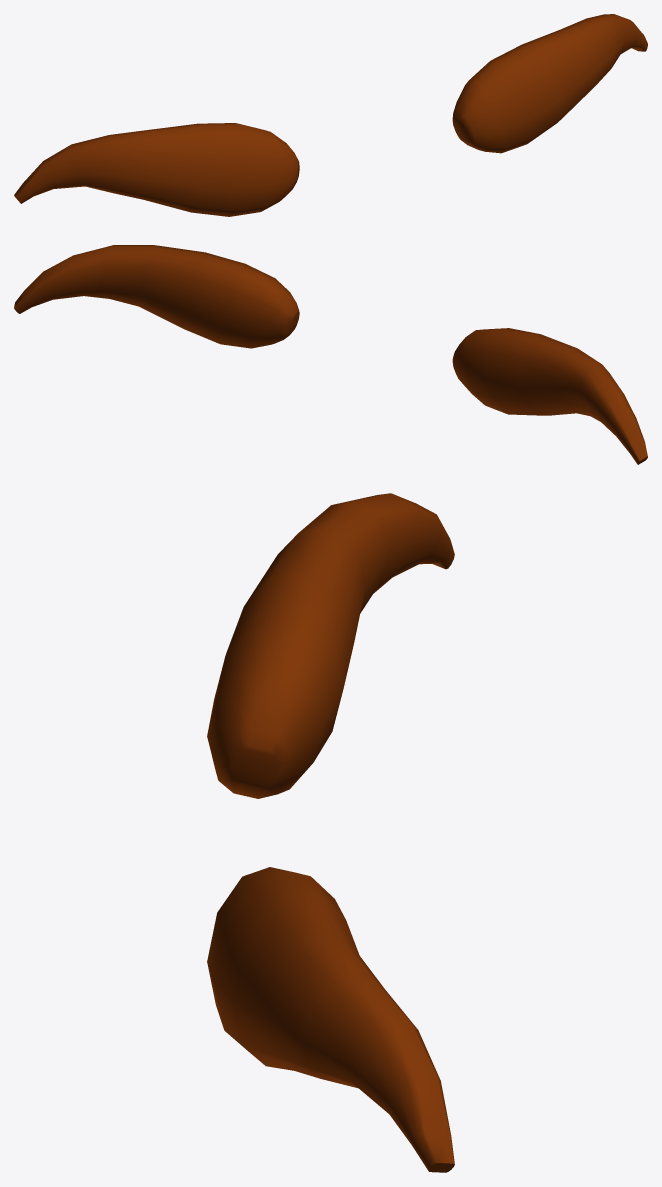
Rendered from Eyebrows_24_02.fbx.
3 views of the same model, one above another, from view 1: azimuth 30°, elevation 25°; view 2: azimuth 150°, elevation 25°; view 3: azimuth 270°, elevation 25° (orthographic). The views are drawn at different scales.
Visible parts, largest first — view 1: Eyebrows_24_02; view 2: Eyebrows_24_02; view 3: Eyebrows_24_02.
Part boxes in pixels (x1,y1,x2,y2): Eyebrows_24_02: (14, 14, 647, 216); Eyebrows_24_02: (14, 245, 647, 464); Eyebrows_24_02: (207, 493, 454, 1172).
Size of the model in its own units: 19.24 by 2.6 by 3.26.
